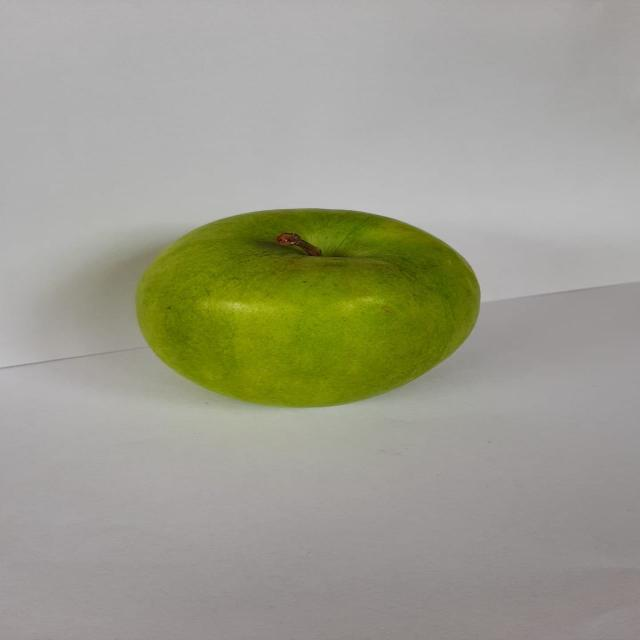50-_ripeness: (105, 201, 498, 419)
